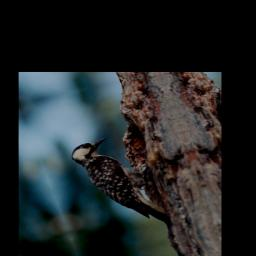Woodpecker: (58, 127, 179, 246)
